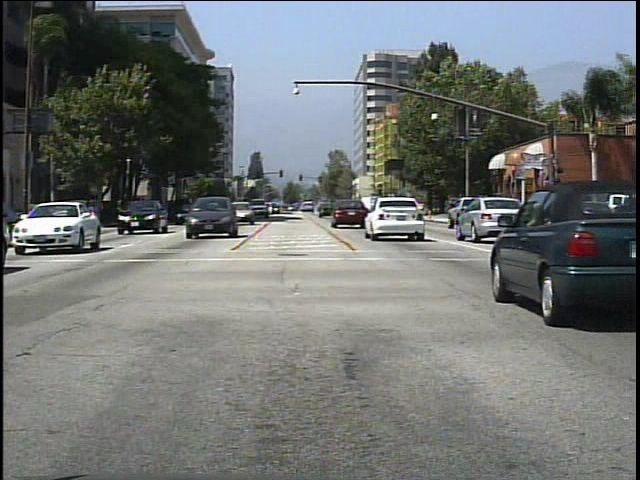person: (525, 194, 545, 229), (490, 189, 508, 224)
